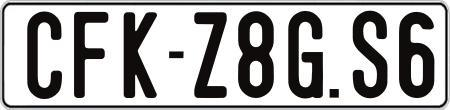6: (398, 9, 431, 95)
8: (237, 11, 274, 104)
C: (26, 10, 63, 99)
F: (74, 12, 113, 104)
G: (286, 9, 327, 102)
K: (124, 9, 162, 99)
S: (351, 10, 386, 97)
Z: (194, 9, 228, 95)
